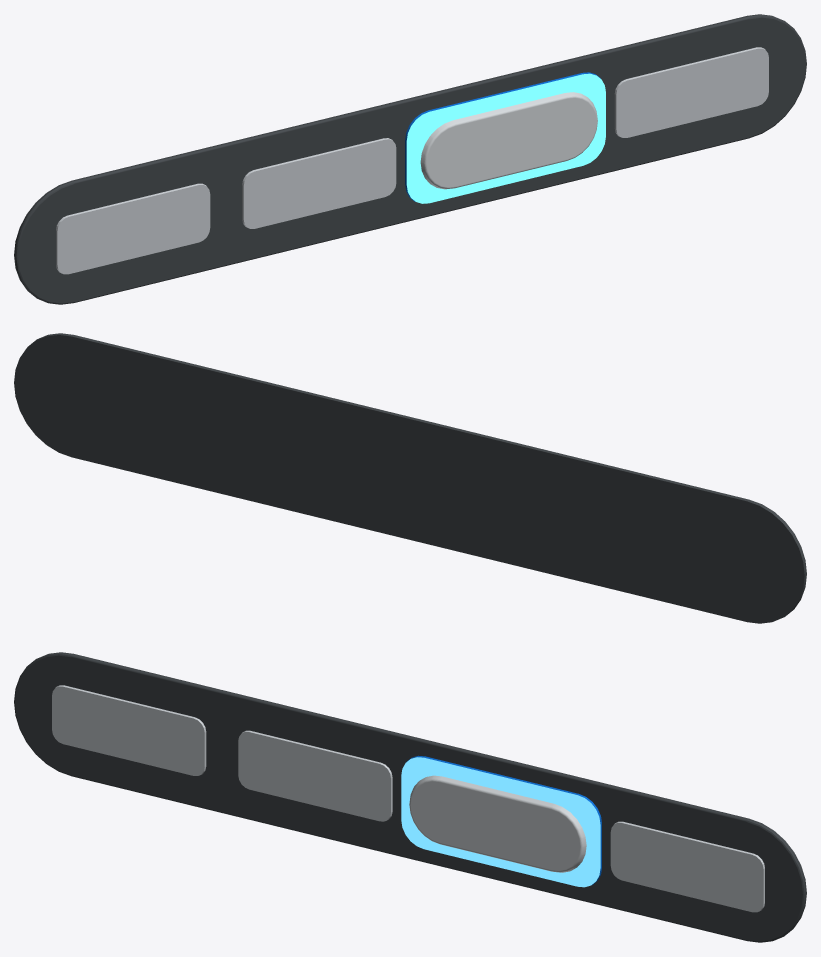
Rendered from tab-bar-02457c.glb.
3 renders of one model, top to bottom at view 1: azimuth 30°, elevation 25°; view 2: azimuth 150°, elevation 25°; view 3: azimuth 330°, elevation 25°, orthographic.
Visible parts, largest first — view 1: bar, pill, glow; view 2: bar; view 3: bar, pill, glow.
Boxes of the visible parts, x1,y1,x2,y2 form: bar: (14, 14, 806, 304); pill: (420, 92, 597, 189); glow: (406, 73, 605, 203); bar: (14, 333, 806, 623); bar: (14, 652, 806, 942); pill: (409, 775, 586, 872); glow: (401, 757, 600, 887).
Bounding box in the file's own units: 0.68 × 0.1 × 0.0138.
